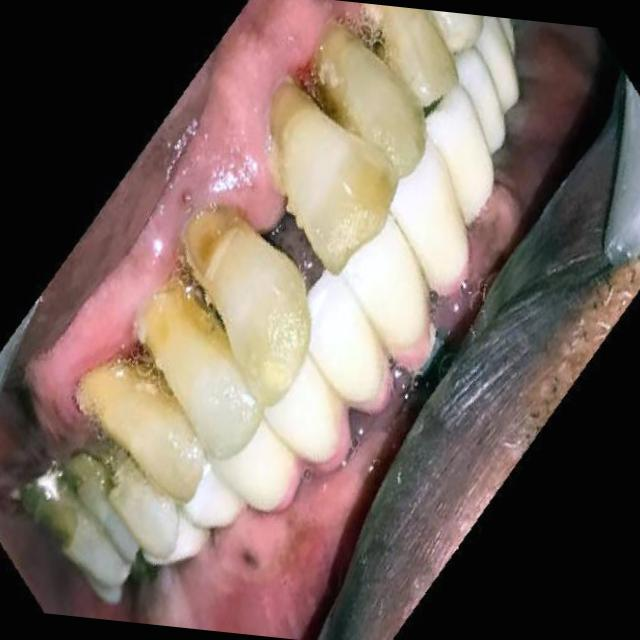calculus: (170, 198, 298, 344), (233, 70, 358, 218), (118, 256, 232, 404), (301, 8, 396, 128)
